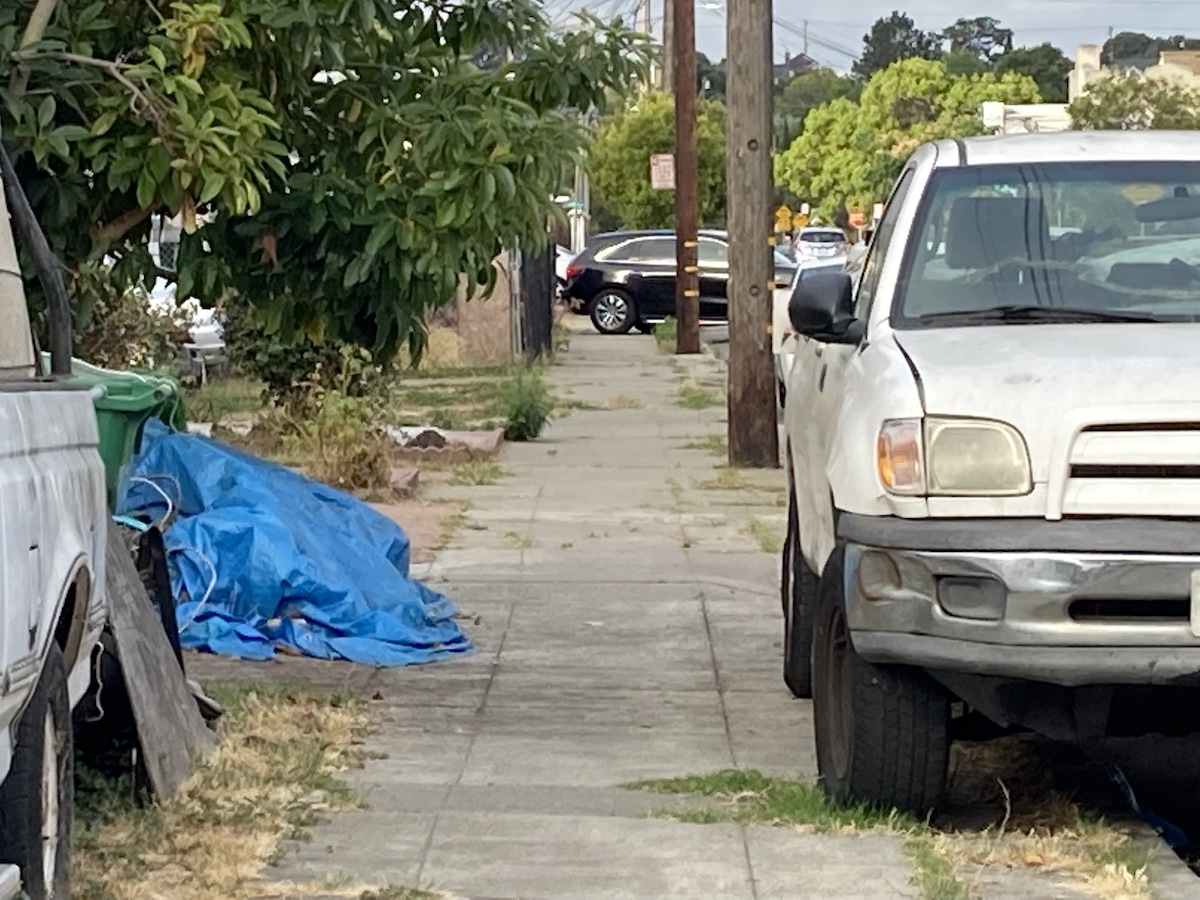Car: (780, 117, 1200, 823), (543, 226, 736, 328)
